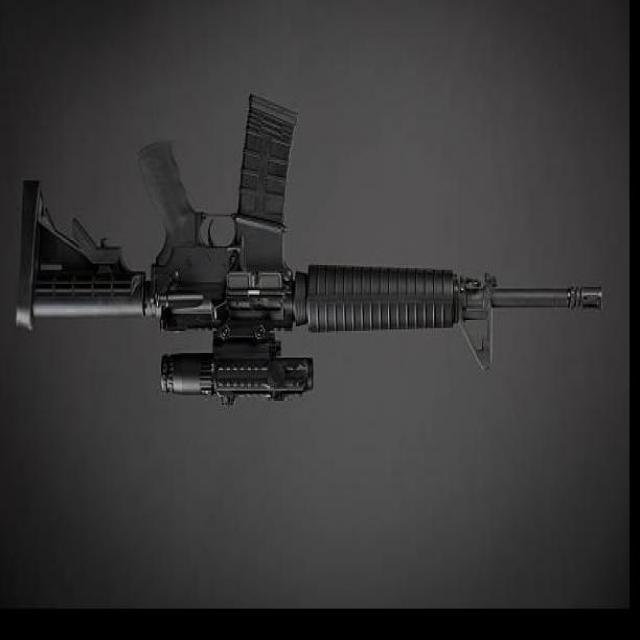weapon: (16, 93, 606, 404)
